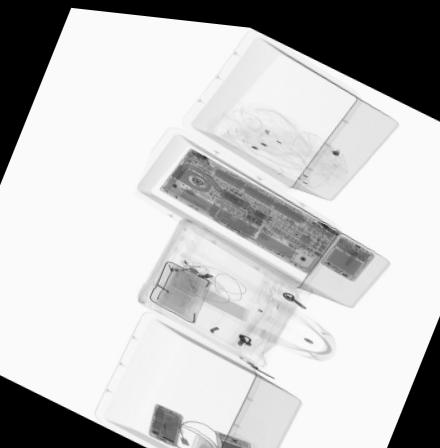Powerbank: (213, 424, 251, 448)
